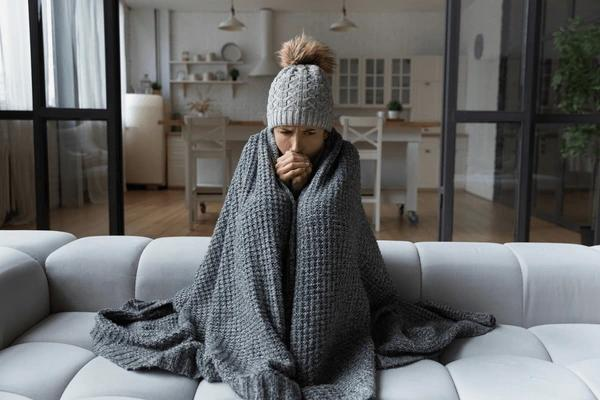blanket: (90, 125, 497, 400)
